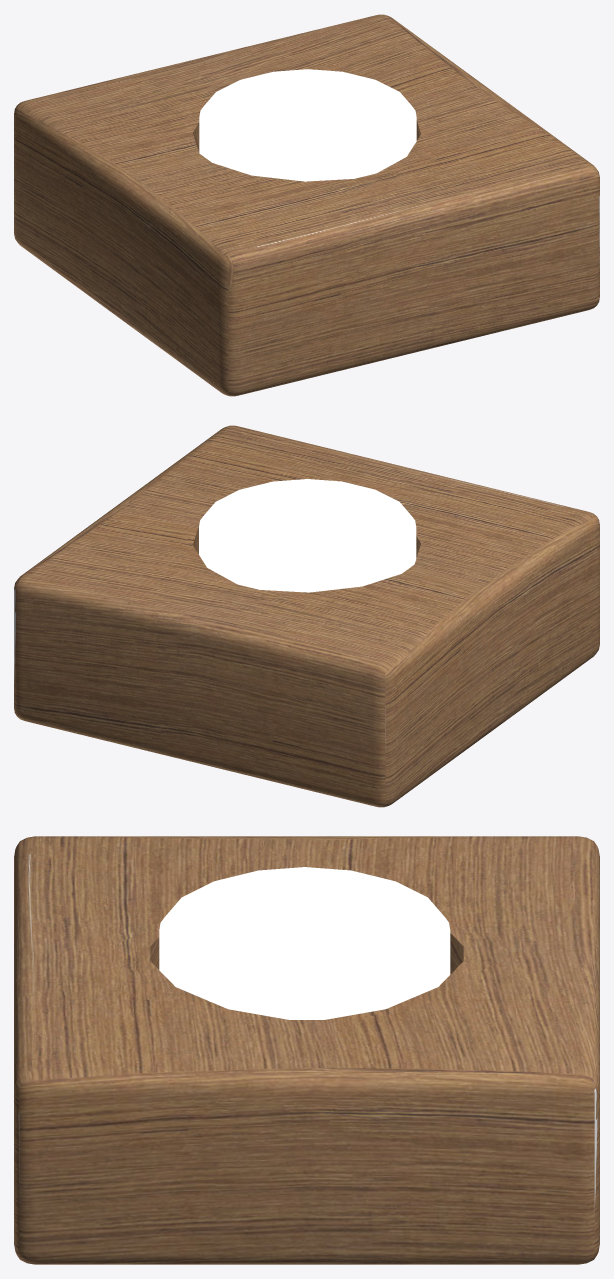
File: Boton pulsado.FBX
3 renders of one model, top to bottom at view 1: azimuth 30°, elevation 25°; view 2: azimuth 150°, elevation 25°; view 3: azimuth 270°, elevation 25°, orthographic. The views are drawn at different scales.
Parts seen in each view (by area): view 1: Object001, Cylinder001; view 2: Object001, Cylinder001; view 3: Object001, Cylinder001.
Boxes of the visible parts, left/top/right/bottom form: Object001: left=14, top=14, right=599, bottom=396; Cylinder001: left=199, top=69, right=416, bottom=181; Object001: left=14, top=425, right=599, bottom=807; Cylinder001: left=199, top=479, right=416, bottom=592; Object001: left=14, top=836, right=599, bottom=1264; Cylinder001: left=159, top=867, right=450, bottom=1019.
Size of the model in its own units: 43.25 by 18.26 by 43.25.
